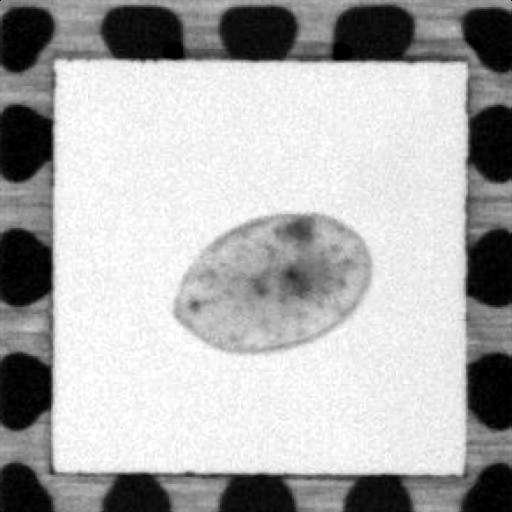DIE_INK: (165, 208, 368, 358)
